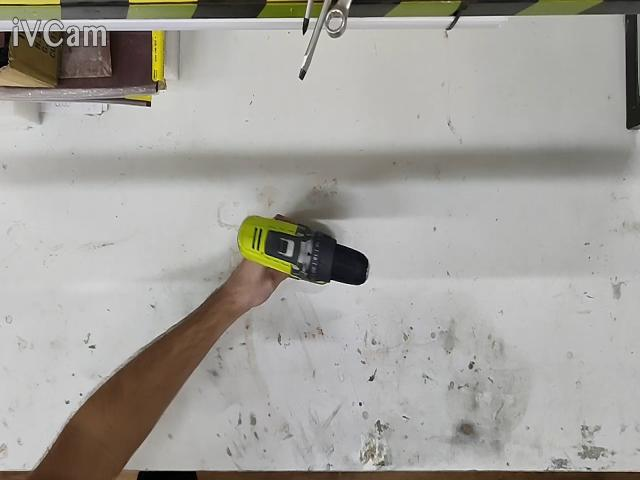Drill: (238, 215, 369, 285)
Hand: (28, 260, 286, 478)
